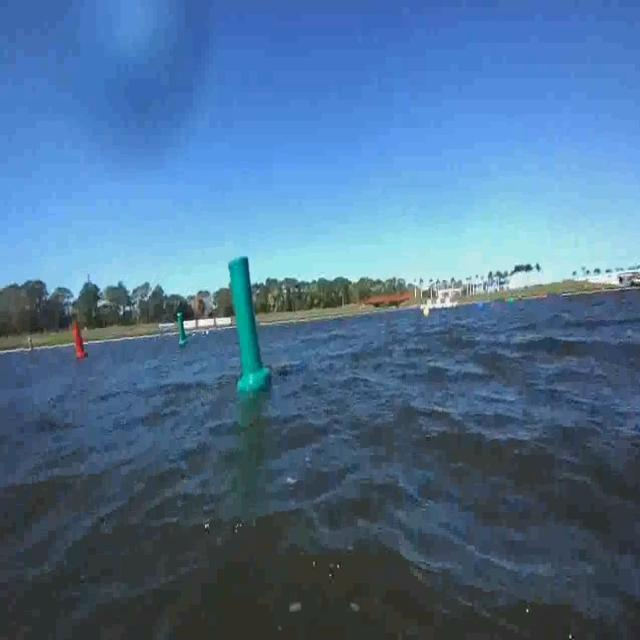blue-buoy: (478, 301, 486, 311)
green-column-buoy: (226, 253, 270, 394), (180, 315, 192, 349)
red-column-buoy: (71, 321, 87, 360)
yellow-buoy: (423, 306, 431, 320)
